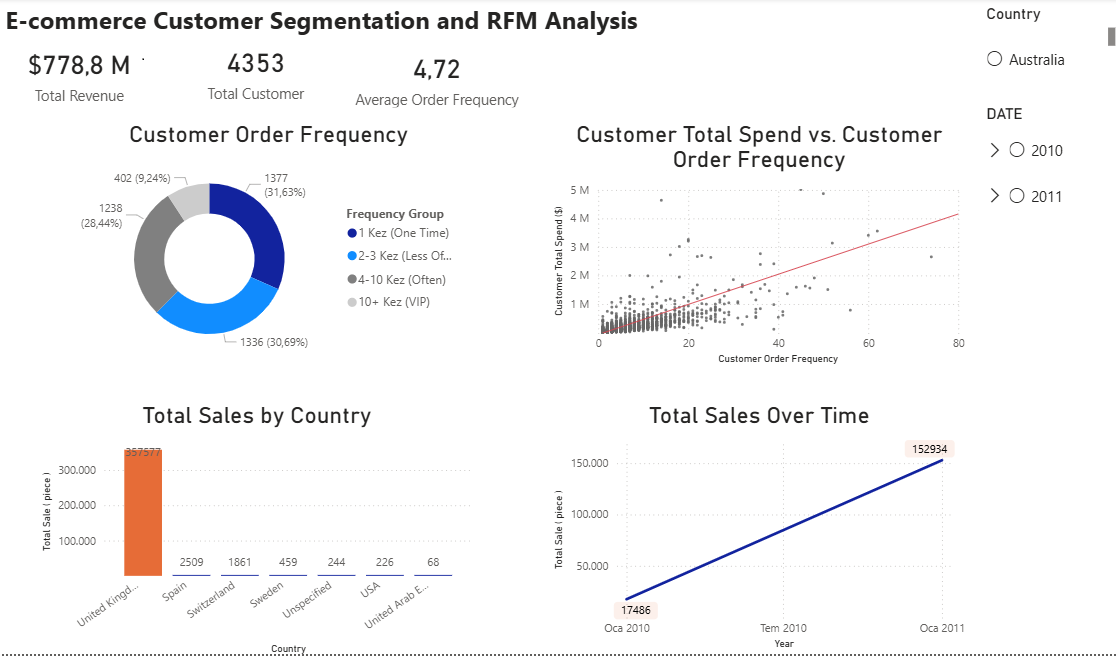

This screenshot's page, from the dashboard's own definition file:
{"tool":"powerbi","page":{"name":"Dashboard","canvas":[1280,720],"ordinal":0},"visuals":[{"type":"textbox","box":[9.8,0,744.7,53.8],"z":0},{"type":"card","fields":{"Values":["e_commerce_data.Total Customer"]},"box":[220.1,44,140.6,73.4],"z":1000},{"type":"card","fields":{"Values":["e_commerce_data.Average Order Frequency"]},"box":[382.7,47.7,211.6,77],"z":2000},{"type":"donutChart","title":"Customer Order Frequency","fields":{"Category":["e_commerce_data.Frequency_Group"],"Y":["Count(e_commerce_data.CustomerID)"]},"box":[83.2,134.5,440.2,272.7],"z":4000},{"type":"scatterChart","title":"Customer Total Spend vs. Customer Order Frequency","fields":{"X":["e_commerce_data.Customer_Frequency"],"Y":["e_commerce_data.Customer_Total_Spend"]},"box":[612.6,134.5,461,272.7],"z":5000},{"type":"lineChart","title":"Total Sales Over Time","fields":{"Category":["e_commerce_data.InvoiceDate.Varyasyon.Tarih Hiyerarşisi.Yıl","e_commerce_data.InvoiceDate.Varyasyon.Tarih Hiyerarşisi.Çeyrek","e_commerce_data.InvoiceDate.Varyasyon.Tarih Hiyerarşisi.Ay","e_commerce_data.InvoiceDate.Varyasyon.Tarih Hiyerarşisi.Gün"],"Y":["CountNonNull(e_commerce_data.TotalSales)"]},"box":[612.6,443.9,461,276.4],"z":6000},{"type":"listSlicer","fields":{"Values":["e_commerce_data.Country"]},"box":[1086.1,7.1,151.1,98.4],"z":7000},{"type":"listSlicer","title":"DATE","fields":{"Values":["e_commerce_data.InvoiceDate.Varyasyon.Tarih Hiyerarşisi.Yıl","e_commerce_data.InvoiceDate.Varyasyon.Tarih Hiyerarşisi.Çeyrek","e_commerce_data.InvoiceDate.Varyasyon.Tarih Hiyerarşisi.Ay","e_commerce_data.InvoiceDate.Varyasyon.Tarih Hiyerarşisi.Gün"]},"box":[1086.1,116.9,172.5,182.4],"z":8000},{"type":"card","fields":{"Values":["Sum(e_commerce_data.Total Sales)"]},"box":[0,44,192,77],"z":9000},{"type":"clusteredColumnChart","title":"Total Sales by Country","fields":{"Category":["e_commerce_data.Country"],"Y":["CountNonNull(e_commerce_data.TotalSales)"]},"box":[49.9,443.3,483.2,276.5],"z":9001}]}

Visuals, with their boxes on the page's 1280x720 design canvas (x1, y1, x2, y2). These are canvas units, not pixel positions in the 1116x657 screenshot, which may show the page scaled, cropped or inside an application window:
textbox: region(10, 0, 754, 54)
card - e_commerce_data.Total Customer: region(220, 44, 361, 117)
card - e_commerce_data.Average Order Frequency: region(383, 48, 594, 125)
"Customer Order Frequency" donutChart: region(83, 134, 523, 407)
"Customer Total Spend vs. Customer Order Frequency" scatterChart: region(613, 134, 1074, 407)
"Total Sales Over Time" lineChart: region(613, 444, 1074, 720)
listSlicer - e_commerce_data.Country: region(1086, 7, 1237, 106)
"DATE" listSlicer: region(1086, 117, 1259, 299)
card - Sum(e_commerce_data.Total Sales): region(0, 44, 192, 121)
"Total Sales by Country" clusteredColumnChart: region(50, 443, 533, 720)
